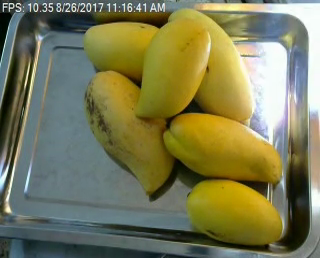Mango: (84, 70, 175, 192), (167, 8, 255, 119), (161, 112, 281, 183), (132, 18, 210, 118), (185, 178, 283, 242), (85, 21, 162, 83)
